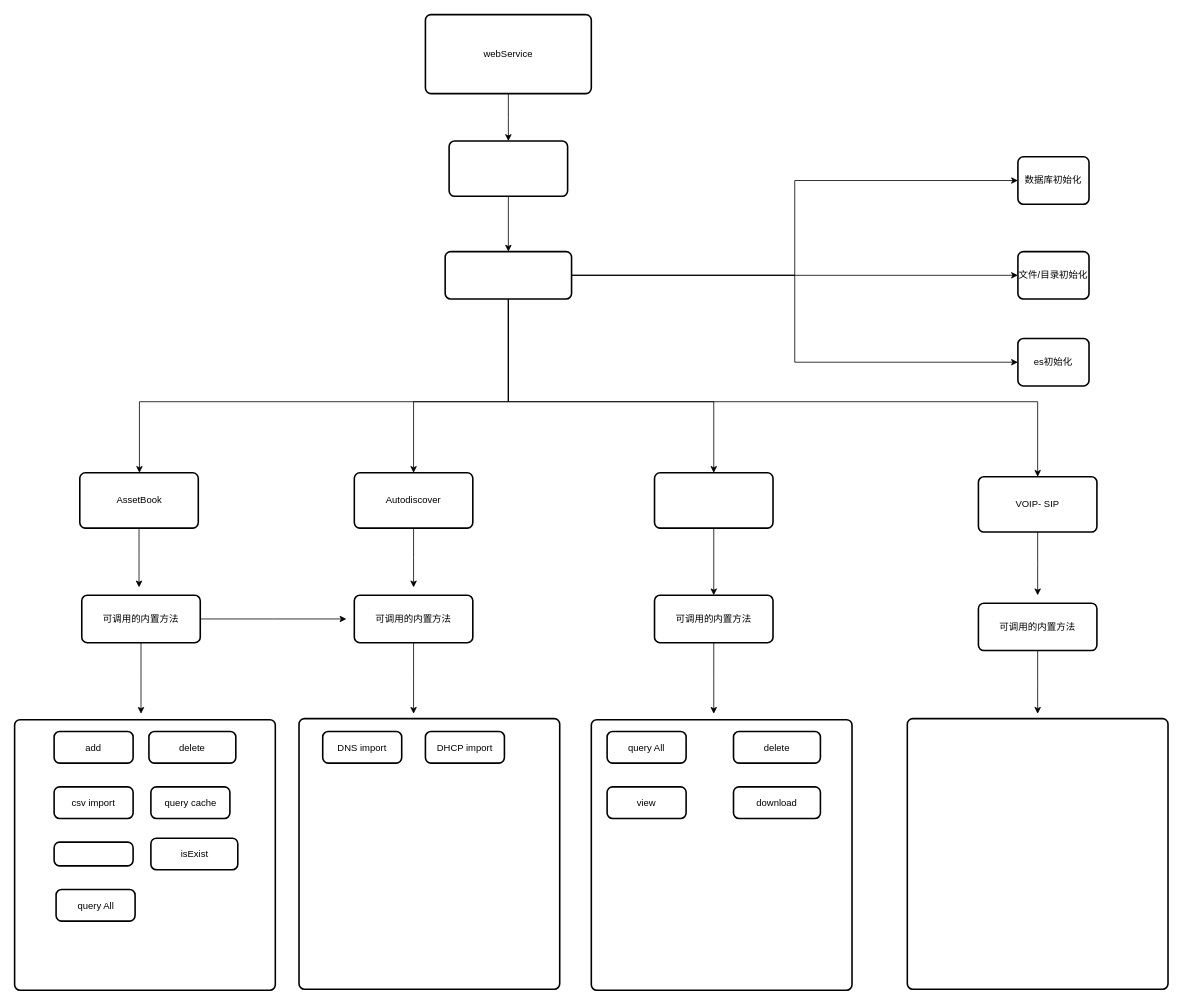
Image size: 1182x1004. Some labels were removed from this diagram. The centre of each missing label's shape, as x and y in pixels:
"FilePreview" belongs at (x=713, y=500).
"update" belongs at (x=93, y=853).
"初始化依赖" belongs at (x=508, y=274).
"注册module" belongs at (x=508, y=168).
